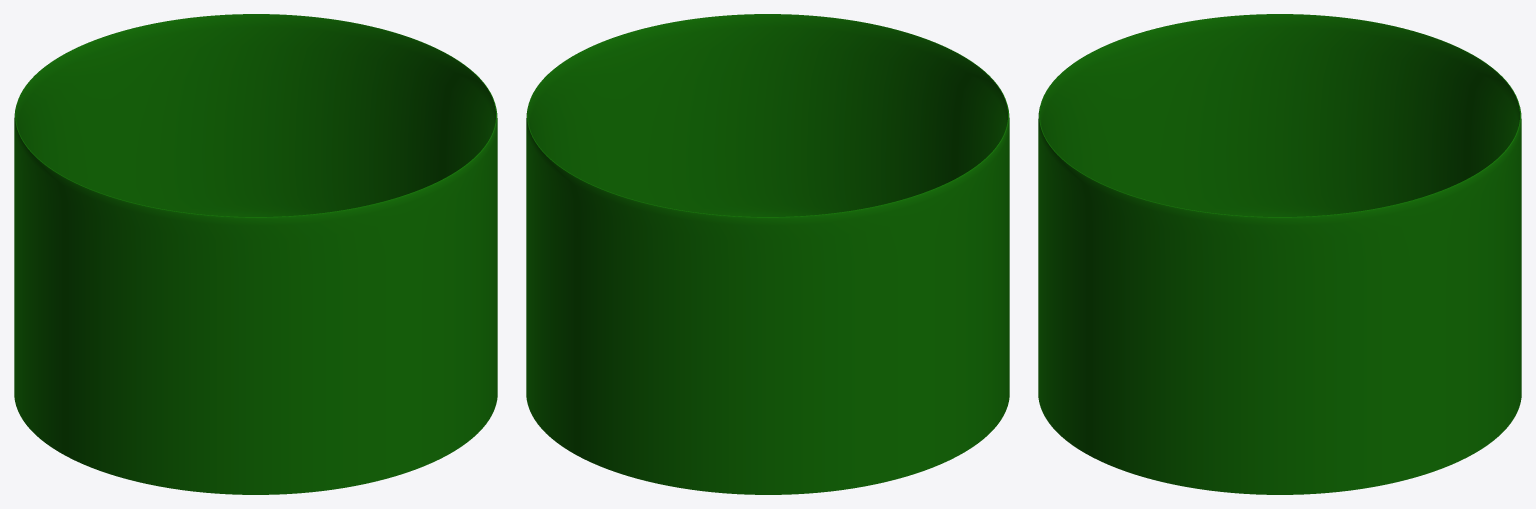
The model's file is uploads_files_3492032_compas.fbx.
3 views of the same model, side by side, from view 1: azimuth 30°, elevation 25°; view 2: azimuth 150°, elevation 25°; view 3: azimuth 270°, elevation 25° (orthographic).
Visible parts, largest first — view 1: Окружность; view 2: Окружность; view 3: Окружность.
Part boxes in pixels (x1,y1,x2,y2): Окружность: (14,14,497,494); Окружность: (526,14,1009,494); Окружность: (1038,14,1521,494).
Bounding box in the file's own units: 796 × 503 × 796.
